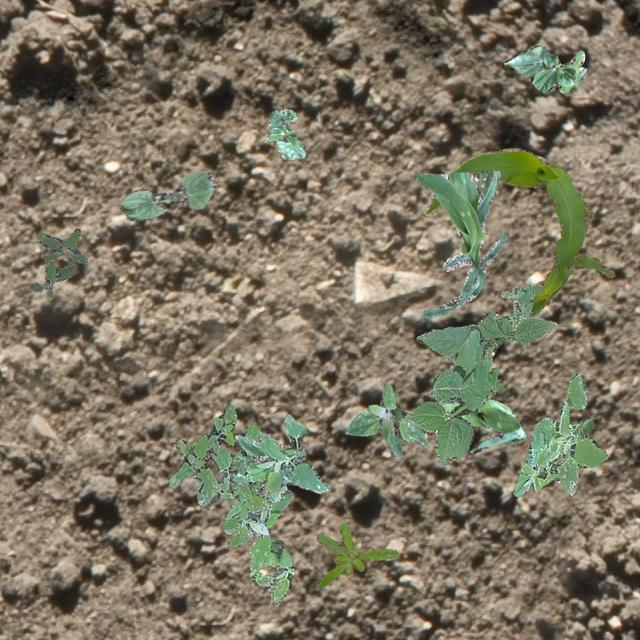crop: (422, 146, 614, 316), (414, 170, 506, 316), (416, 310, 556, 370), (118, 168, 214, 220), (438, 396, 524, 452), (504, 44, 586, 92), (264, 108, 304, 158)
weed: (168, 402, 286, 542), (194, 450, 294, 606), (403, 328, 502, 466), (512, 372, 606, 496), (230, 414, 328, 494), (345, 384, 427, 456), (314, 522, 398, 586), (32, 228, 86, 296), (494, 282, 534, 344)
